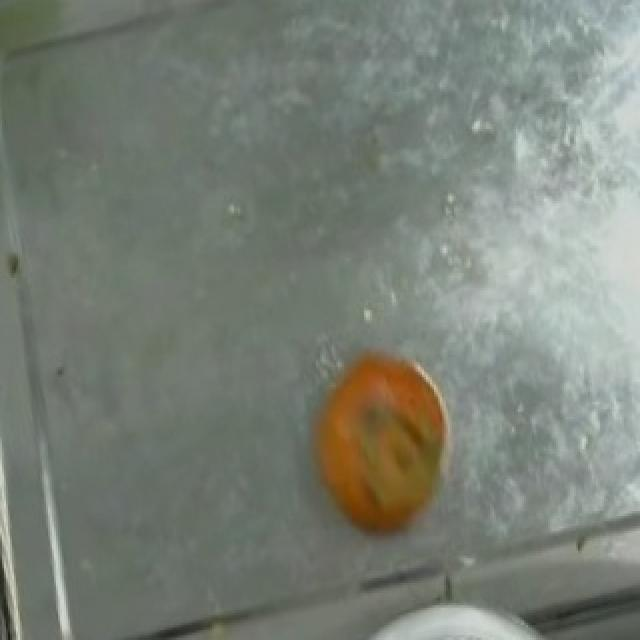Fruit: (292, 332, 472, 556)
